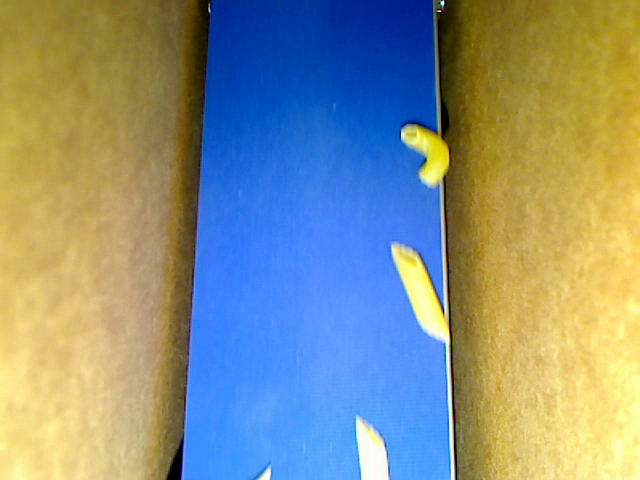elbow: (400, 123, 449, 187)
penne: (391, 240, 452, 344), (355, 414, 389, 479)
